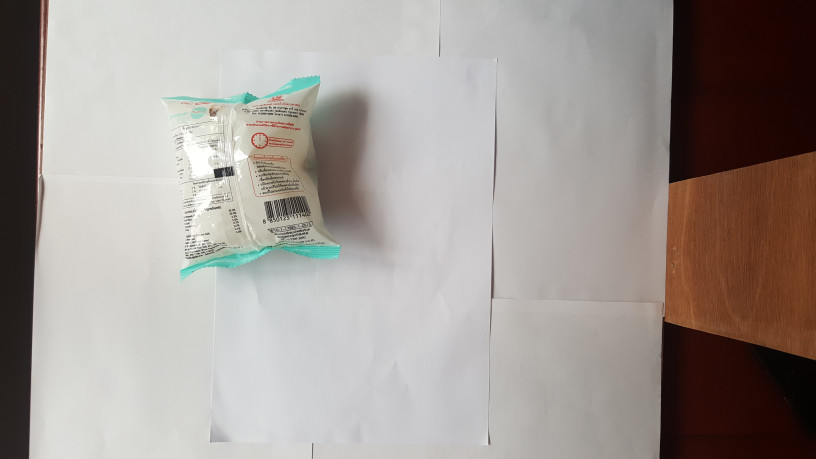farmhouse-sweetsandwich-chocolate: (160, 71, 344, 282)
